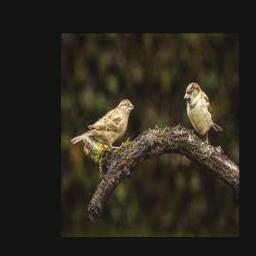Sparrow: (71, 97, 134, 148), (184, 82, 223, 145)
